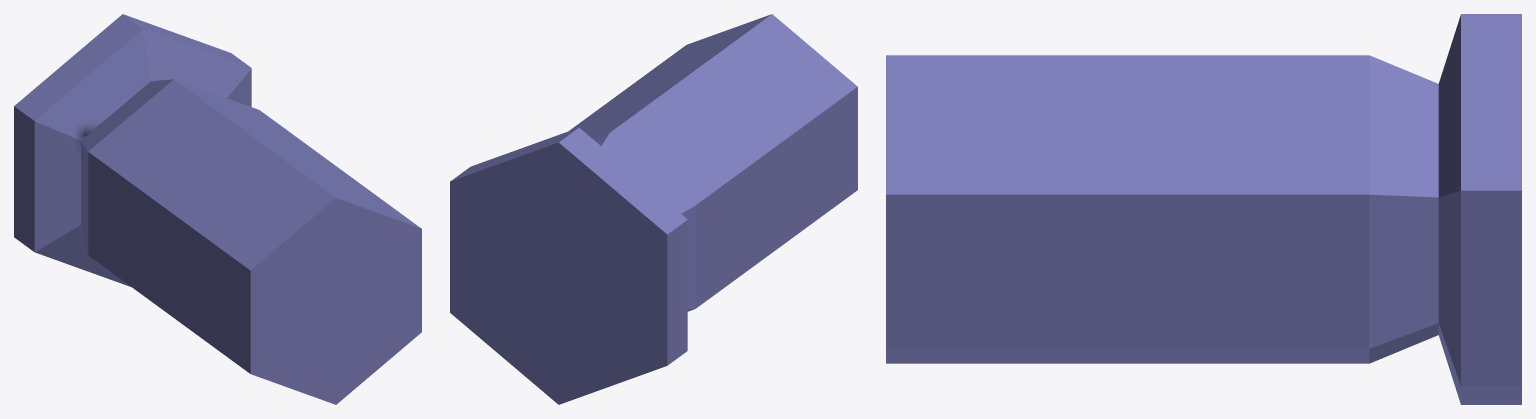
File: pistol_case.glb
3 renders of one model, left to right at view 1: azimuth 30°, elevation 25°; view 2: azimuth 150°, elevation 25°; view 3: azimuth 270°, elevation 25°, orthographic. The views are drawn at different scales.
Visible parts, largest first — view 1: Casing_official; view 2: Casing_official; view 3: Casing_official.
Part boxes in pixels (x1=…): Casing_official: x1=14, y1=14, x2=421, y2=404; Casing_official: x1=450, y1=14, x2=857, y2=404; Casing_official: x1=886, y1=14, x2=1521, y2=404.
Bounding box in the file's own units: 0.0141 × 0.0162 × 0.0239.
Materials: 1 (1 with a texture image).
